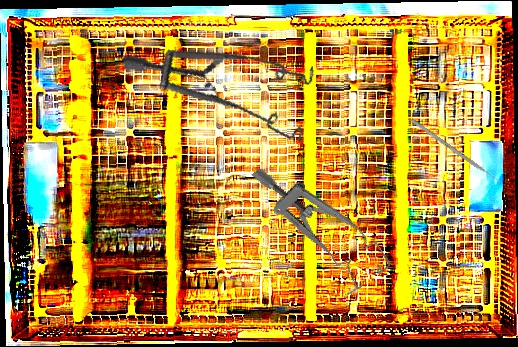Pusher: (409, 118, 505, 186)
Speculum: (121, 11, 330, 180), (249, 136, 394, 305)
